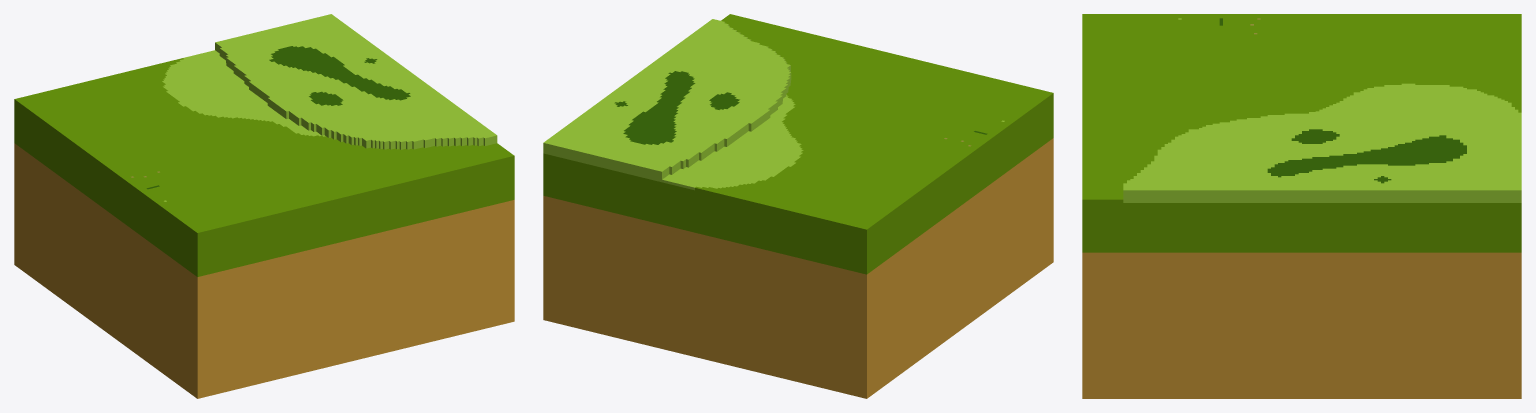
3 renders of one model, left to right at view 1: azimuth 30°, elevation 25°; view 2: azimuth 150°, elevation 25°; view 3: azimuth 270°, elevation 25°, orthographic. The views are drawn at different scales.
Parts seen in each view (by area): view 1: 13I.001; view 2: 13I.001; view 3: 13I.001.
Boxes of the visible parts, x1,y1,x2,y2 form: 13I.001: [14, 14, 514, 398]; 13I.001: [543, 14, 1053, 398]; 13I.001: [1082, 14, 1521, 398].
Bounding box in the file's own units: 12.8 × 6.7 × 12.8.
Materials: 1 (1 with a texture image).
